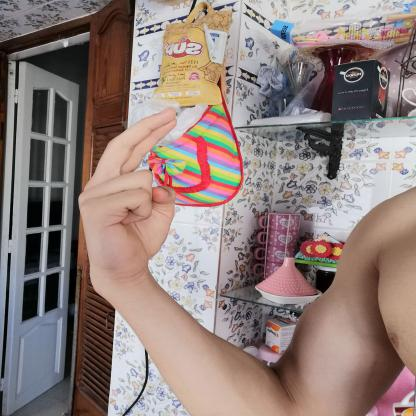ZAY: (71, 98, 189, 294)
